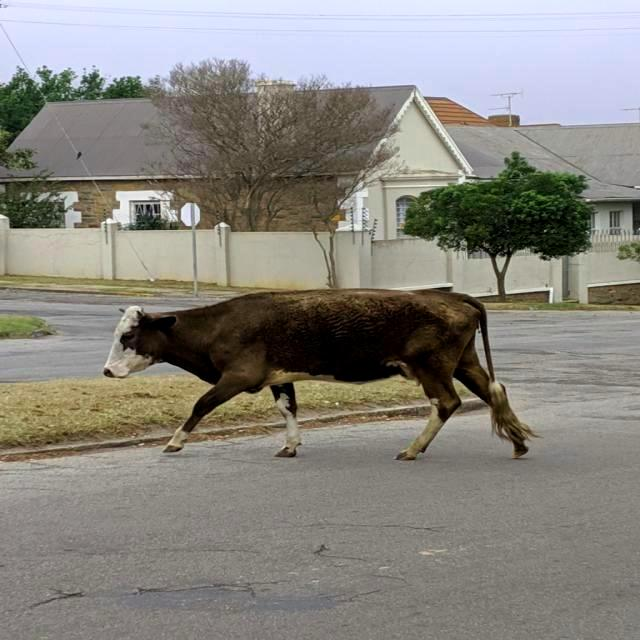COW: (104, 289, 534, 460)
